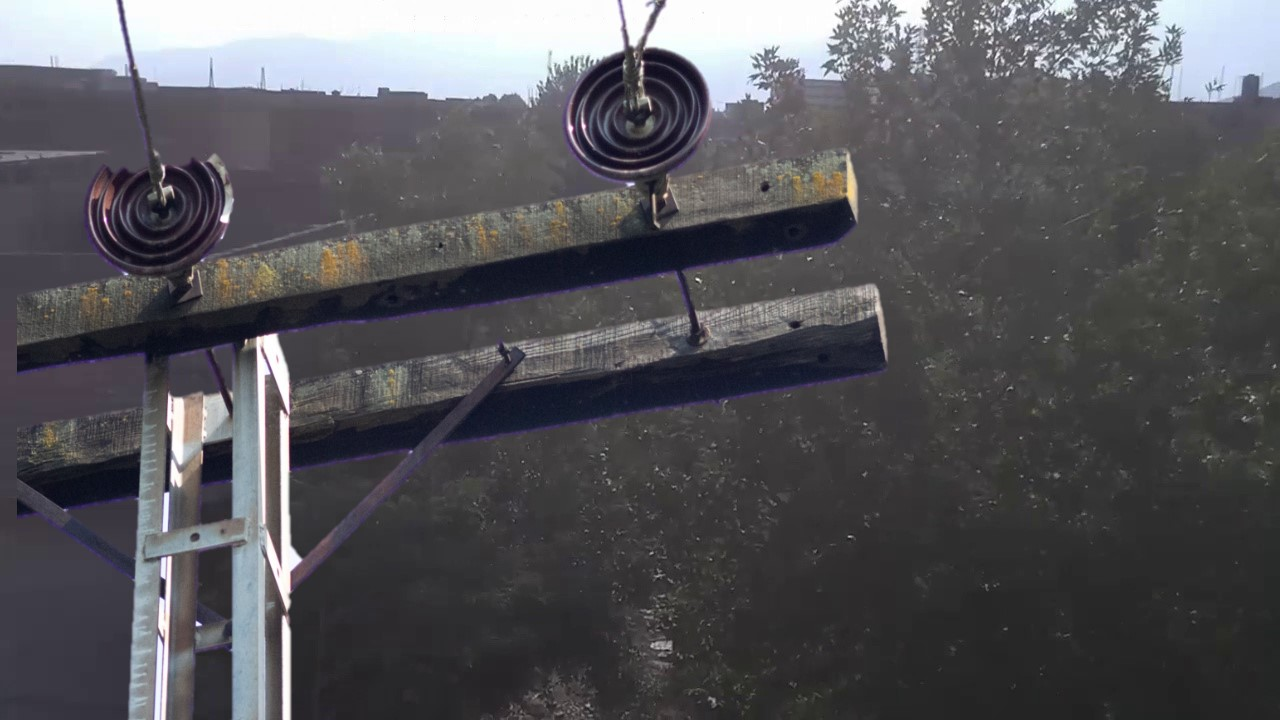defect_disc: (82, 144, 240, 280)
insulator_disc: (562, 43, 721, 187)
